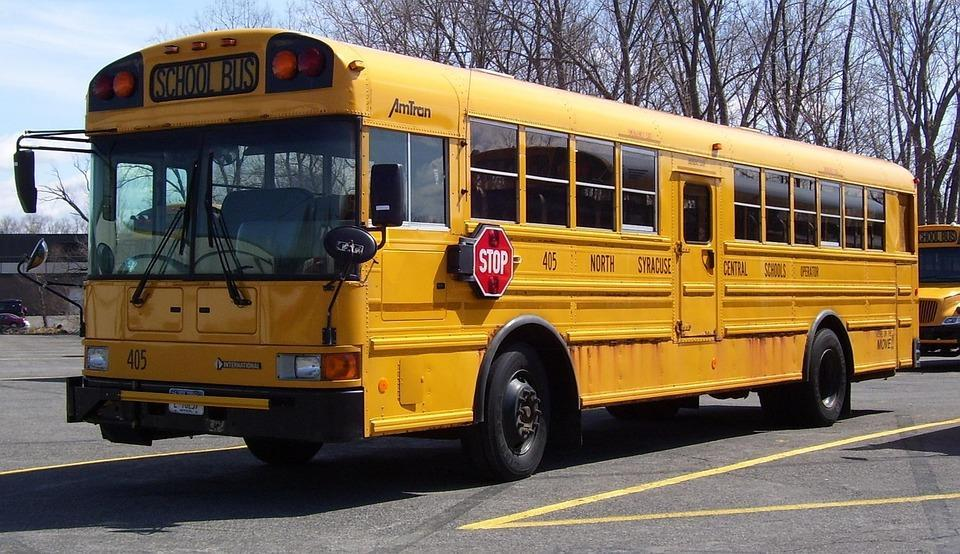Bus: (66, 28, 928, 484)
